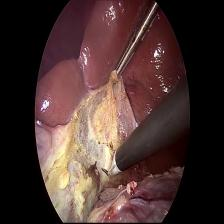Grasper: (105, 0, 161, 84)
Hook: (98, 148, 120, 185)
